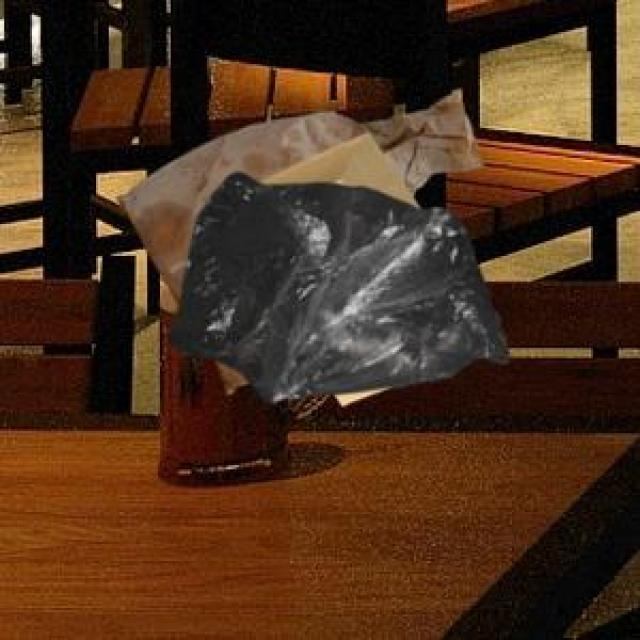paper: (114, 90, 478, 390), (256, 130, 415, 401)
